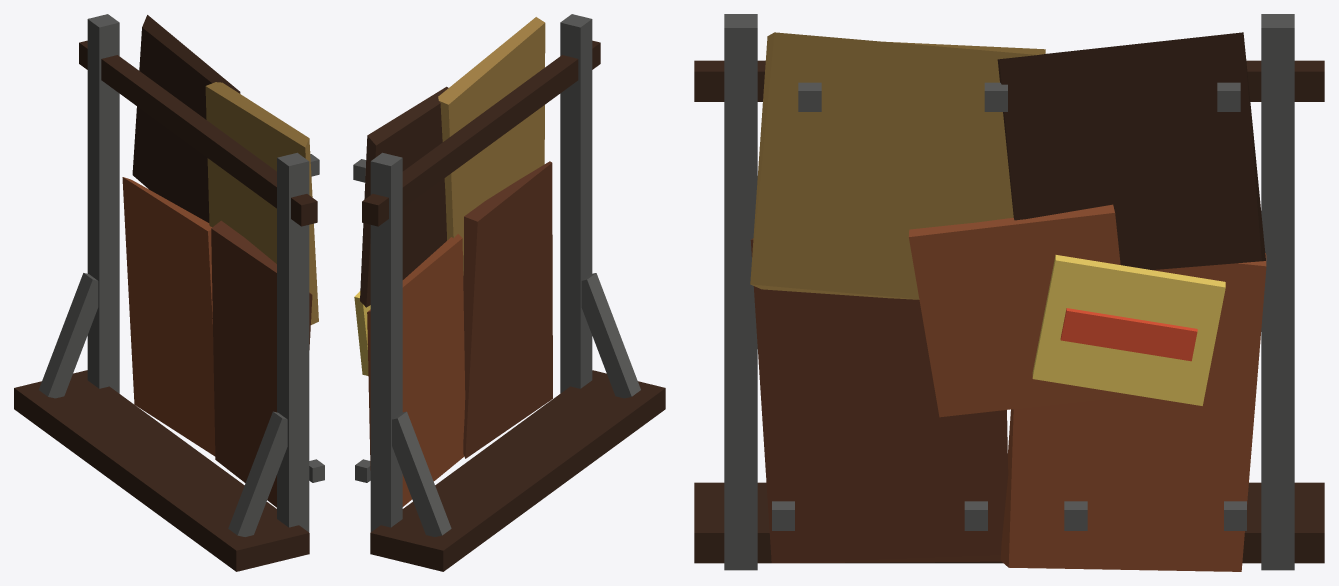
The model's file is arm_scrap_panels.glb.
The picture shows the model from 3 angles, left to right: view 1: azimuth 30°, elevation 25°; view 2: azimuth 150°, elevation 25°; view 3: azimuth 270°, elevation 25°; orthographic projection. The views are drawn at different scales.
Visible parts, largest first — view 1: arm_scrap_panels; view 2: arm_scrap_panels; view 3: arm_scrap_panels.
Part boxes in pixels (x1,y1,x2,y2): arm_scrap_panels: (14,14,324,571); arm_scrap_panels: (353,14,665,571); arm_scrap_panels: (694,14,1324,571).
Size of the model in its own units: 0.315 by 0.9175 by 0.948.
